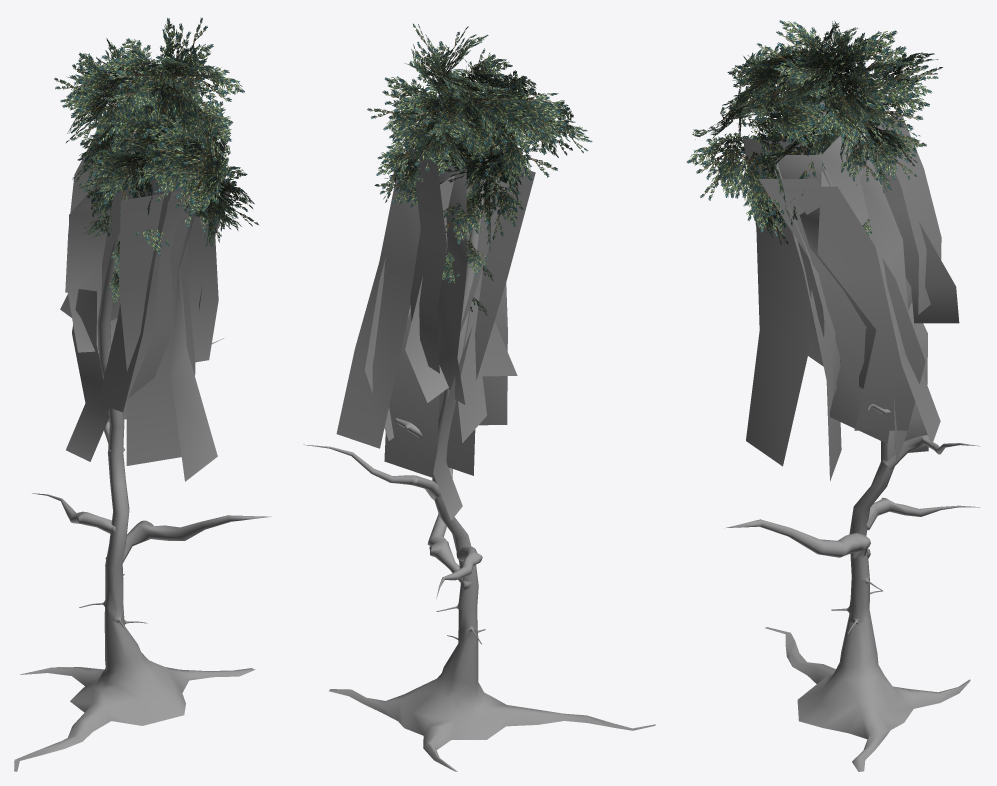
The model's file is bjorktree_lod0.fbx.
3 views of the same model, side by side, from view 1: azimuth 30°, elevation 25°; view 2: azimuth 150°, elevation 25°; view 3: azimuth 270°, elevation 25° (orthographic). The views are drawn at different scales.
Visible parts, largest first — view 1: Default_Layer; view 2: Default_Layer; view 3: Default_Layer.
Boxes of the visible parts, x1=… form: Default_Layer: x1=14, y1=17, x2=271, y2=771; Default_Layer: x1=303, y1=23, x2=655, y2=771; Default_Layer: x1=686, y1=20, x2=980, y2=771.
Size of the model in its own units: 749 by 1720 by 654.
